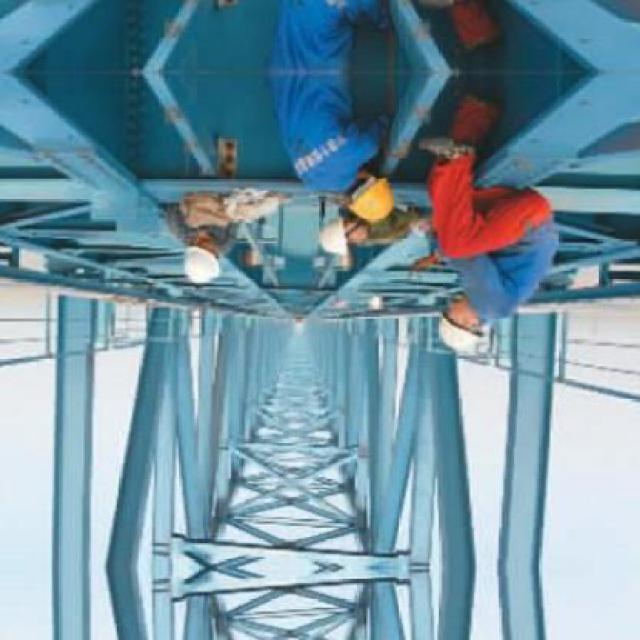con casco: (403, 267, 522, 374), (326, 156, 424, 247), (172, 220, 262, 314)
